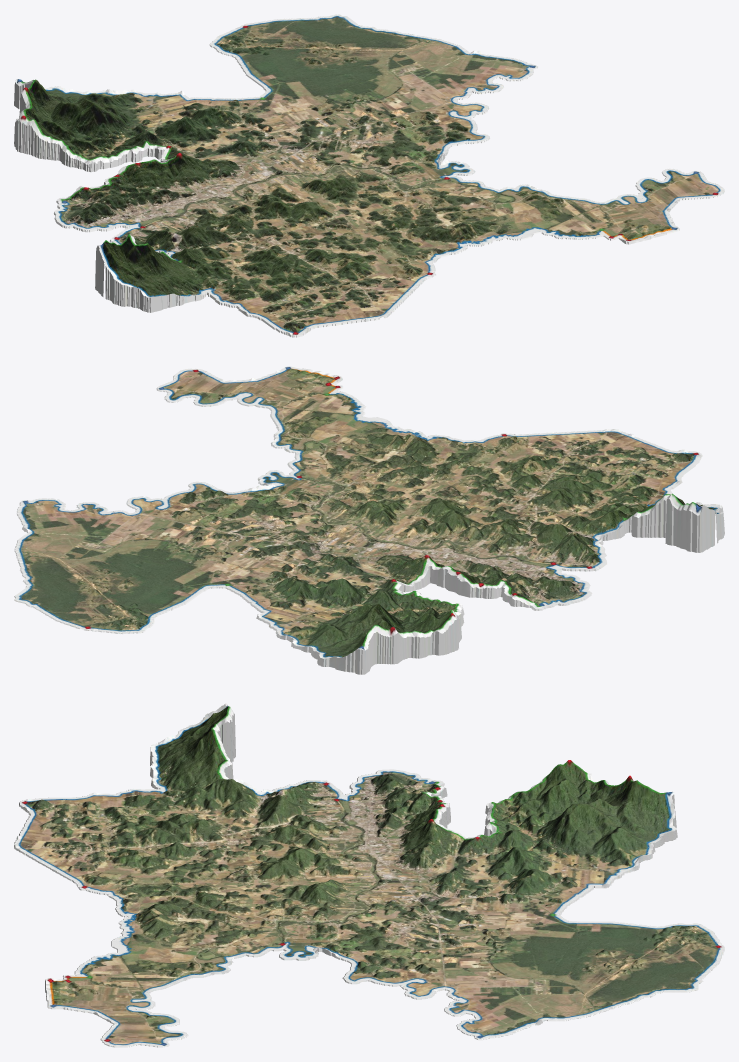
3 renders of one model, top to bottom at view 1: azimuth 30°, elevation 25°; view 2: azimuth 150°, elevation 25°; view 3: azimuth 270°, elevation 25°, orthographic. The views are drawn at different scales.
Size of the model in its own units: 0.9994 by 0.0815 by 1.01.
Materials: 1 (1 with a texture image).
